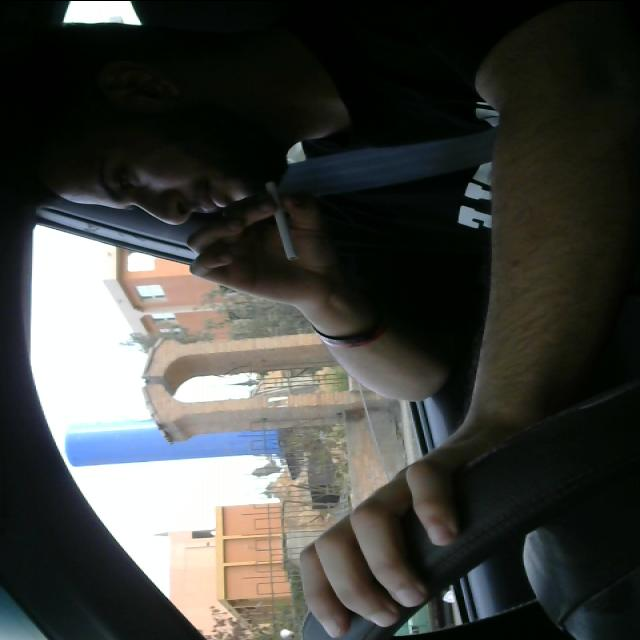smoking: (256, 177, 303, 260)
